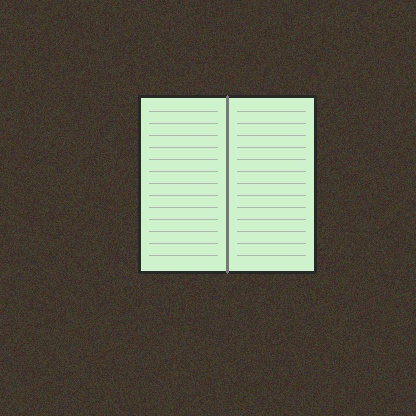book: (139, 96, 315, 272)
